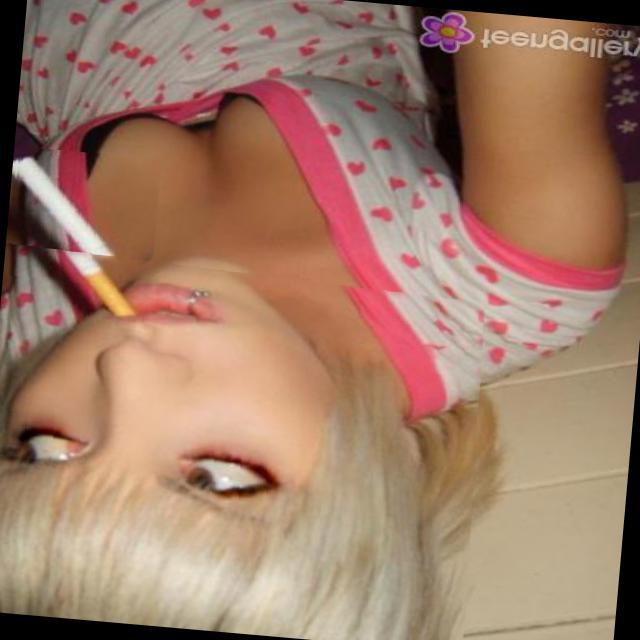cigarette: (0, 147, 161, 344)
